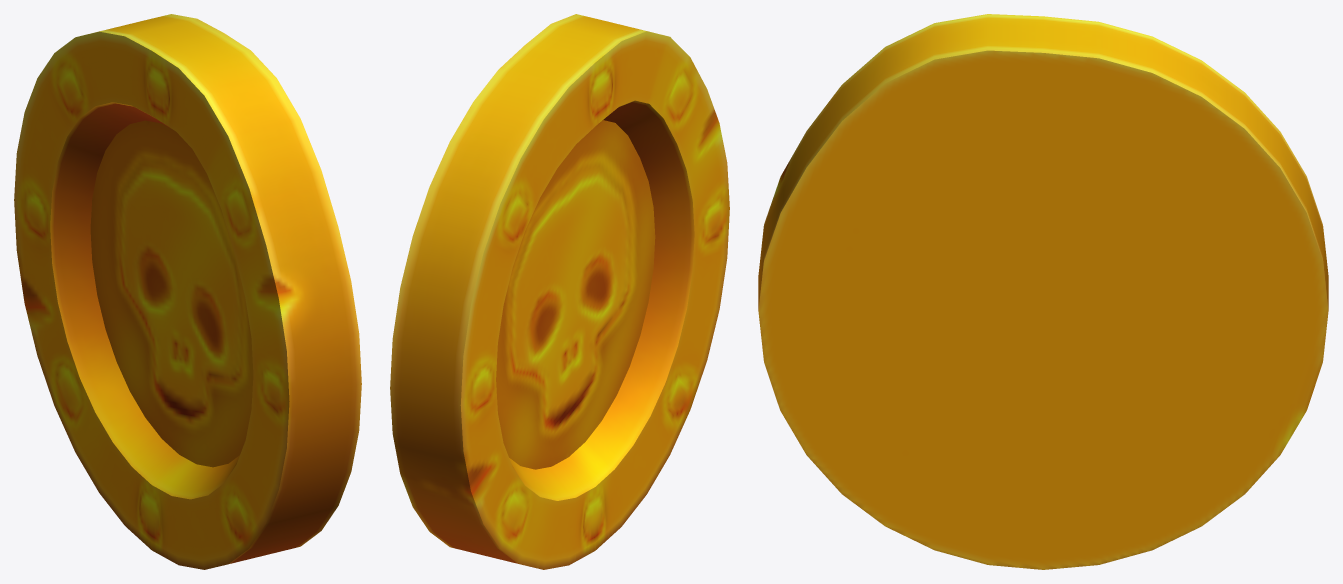
File: SM_Coin.fbx
3 renders of one model, left to right at view 1: azimuth 30°, elevation 25°; view 2: azimuth 150°, elevation 25°; view 3: azimuth 270°, elevation 25°, orthographic. The views are drawn at different scales.
Visible parts, largest first — view 1: SM_Coin_LOD0; view 2: SM_Coin_LOD0; view 3: SM_Coin_LOD0.
Boxes of the visible parts, bbox=[...] form: SM_Coin_LOD0: bbox=[14, 14, 361, 569]; SM_Coin_LOD0: bbox=[390, 14, 729, 569]; SM_Coin_LOD0: bbox=[758, 14, 1328, 569].
Size of the model in its own units: 3.18 by 20.96 by 21.07.
1 material, 1 textured.
